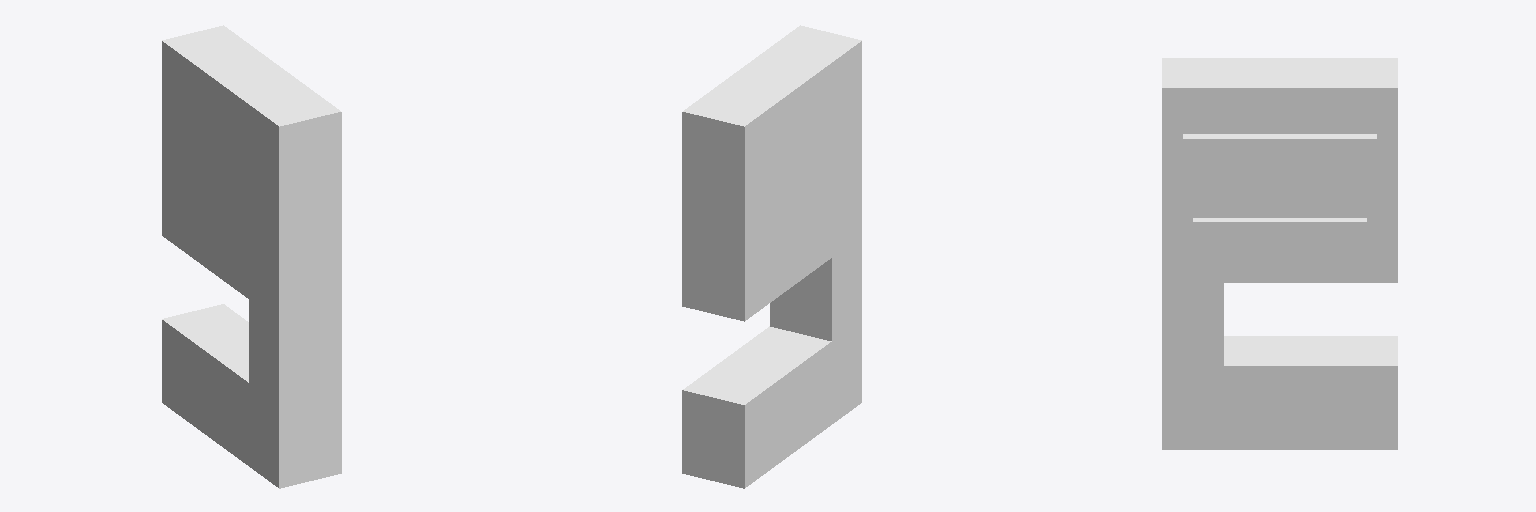
Rendered from modern:fireplace.obj.
3 views of the same model, side by side, from view 1: azimuth 30°, elevation 25°; view 2: azimuth 150°, elevation 25°; view 3: azimuth 270°, elevation 25° (orthographic).
Visible parts, largest first — view 1: modern:fireplace; view 2: modern:fireplace; view 3: modern:fireplace.
Part boxes in pixels (x1,y1,x2,y2): modern:fireplace: (162, 25, 341, 488); modern:fireplace: (682, 25, 861, 488); modern:fireplace: (1162, 58, 1397, 449).
Size of the model in its own units: 8 by 39 by 23.